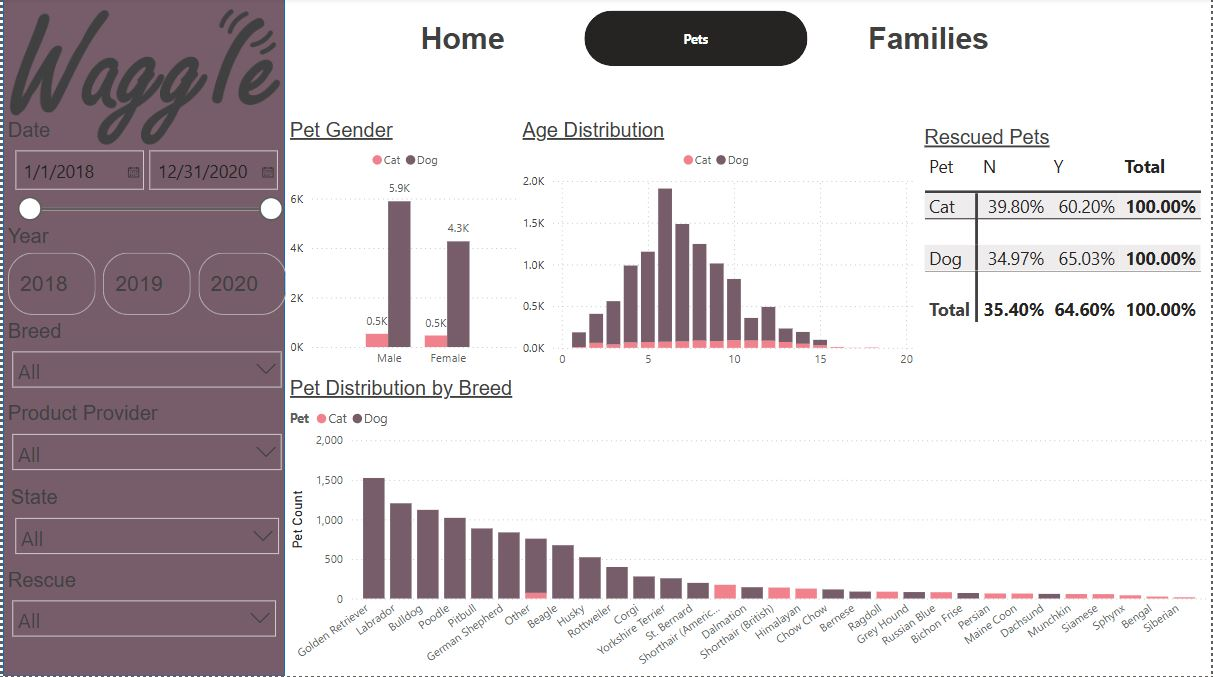

Layout of this report page (visuals, bound fields, positions):
{"tool":"powerbi","page":{"name":"Pets","canvas":[1280,720],"ordinal":1},"visuals":[{"type":"clusteredColumnChart","title":"Pet Gender","fields":{"Category":["Pet_Data.Gender"],"Series":["Pet_Data.Pet"],"Y":["Tracker_Data.Count of Pets"]},"box":[299,128.8,259.3,272],"z":0},{"type":"pivotTable","title":"Rescued Pets","fields":{"Rows":["Pet_Data.Dog/Cat"],"Columns":["Pet_Data.Rescue?"],"Values":["Tracker_Data.Count of Pets"]},"box":[971.2,137.3,308.5,264.4],"z":1000},{"type":"columnChart","title":"Pet Distribution by Breed","fields":{"Category":["Pet_Data.Breed"],"Series":["Pet_Data.Dog/Cat"],"Y":["Count(Tracker_Data.Pet_ID)"]},"box":[299,402.4,981.4,318.1],"z":2000},{"type":"columnChart","title":"Age Distribution ","fields":{"Category":["Pet_Data.Age"],"Series":["Pet_Data.Dog/Cat"],"Y":["Tracker_Data.Count of Pets"]},"box":[545.8,128.8,425.4,272.9],"z":3000},{"type":"shape","box":[0,0,299,720.5],"z":4000},{"type":"advancedSlicerVisual","fields":{"Values":["Date_Table.Year"]},"box":[0,241.8,305.4,100.2],"z":5000},{"type":"slicer","title":"Breed","fields":{"Values":["Pet_Data.Breed"]},"box":[0,342,305.4,87.5],"z":6000},{"type":"slicer","title":"Date","fields":{"Values":["Date_Table.Date"]},"box":[0,128.8,305.4,132],"z":7000},{"type":"slicer","title":"Product Provider","fields":{"Values":["Rating_Data.Where Did You Buy This Product?"]},"box":[0,429.5,305.4,100.2],"z":8000},{"type":"slicer","title":"State","fields":{"Values":["Family_Data.State"]},"box":[3.2,518.5,299,87.5],"z":9000},{"type":"slicer","title":"Rescue","fields":{"Values":["Pet_Data.Rescue?"]},"box":[0,606,299,89.1],"z":10000},{"type":"image","box":[0,1.6,299,165.4],"z":11000},{"type":"pageNavigator","box":[369.5,13.6,732.2,59.3],"z":12000}]}

Visuals, with their boxes in screenshot pixels (x1, y1, x2, y2), scaled from the page's 1280x720 canvas onto the 1213x677 screenshot:
"Pet Gender" clusteredColumnChart: (283,121,529,377)
"Rescued Pets" pivotTable: (920,129,1212,378)
"Pet Distribution by Breed" columnChart: (283,378,1212,676)
"Age Distribution " columnChart: (517,121,920,378)
shape: (0,0,283,676)
advancedSlicerVisual - Date_Table.Year: (0,227,289,322)
"Breed" slicer: (0,322,289,404)
"Date" slicer: (0,121,289,245)
"Product Provider" slicer: (0,404,289,498)
"State" slicer: (3,488,286,570)
"Rescue" slicer: (0,570,283,654)
image: (0,2,283,157)
pageNavigator: (350,13,1044,69)
